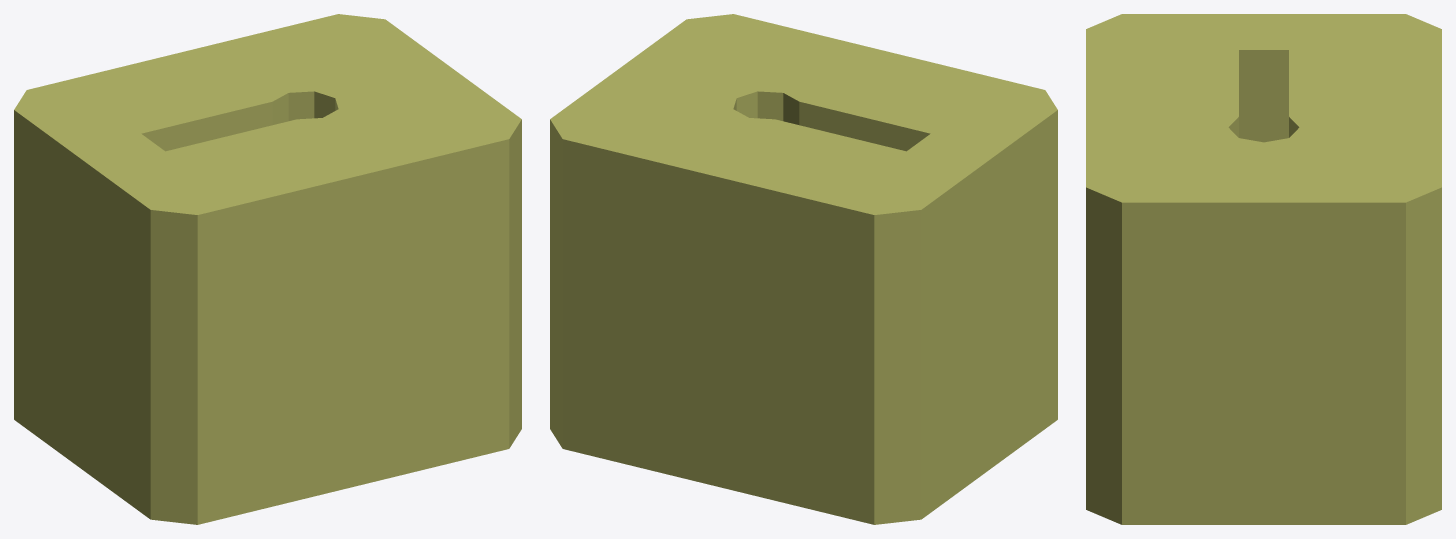
The model's file is WW_lock_prop.fbx.
The picture shows the model from 3 angles, left to right: view 1: azimuth 30°, elevation 25°; view 2: azimuth 150°, elevation 25°; view 3: azimuth 270°, elevation 25°; orthographic projection. The views are drawn at different scales.
Parts seen in each view (by area): view 1: fortune_key_lock; view 2: fortune_key_lock; view 3: fortune_key_lock.
Part boxes in pixels (x1,y1,x2,y2): fortune_key_lock: (14, 14, 521, 524); fortune_key_lock: (550, 14, 1057, 524); fortune_key_lock: (1086, 14, 1441, 524).
Size of the model in its own units: 9.51 by 7.58 by 7.58.
